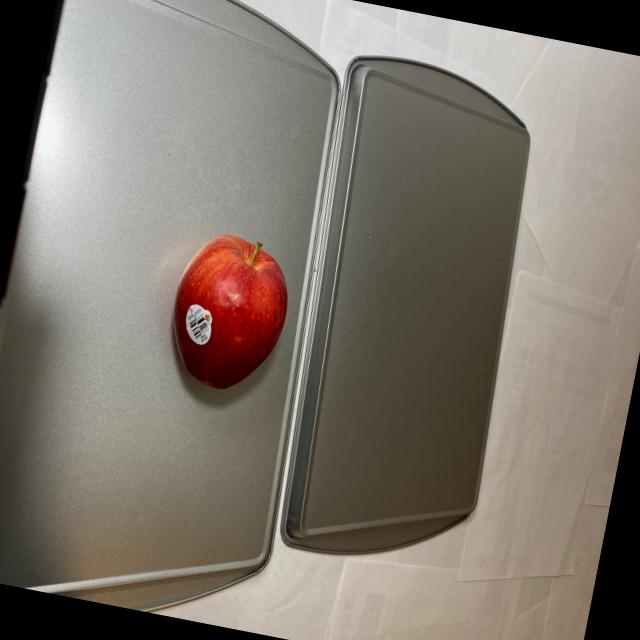apple: (160, 223, 300, 403)
